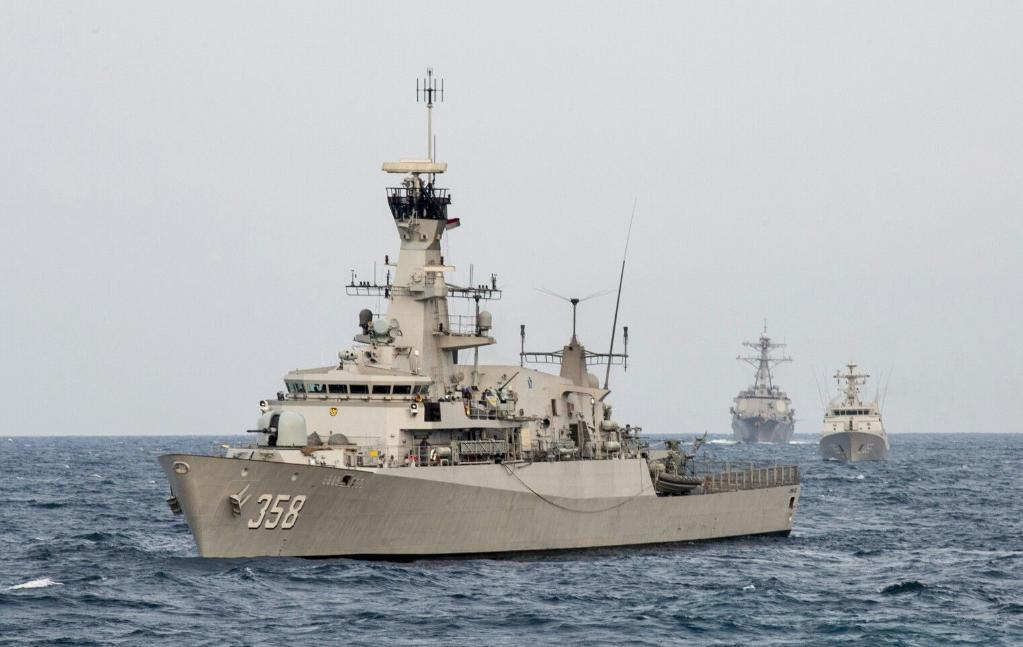Warship: (158, 65, 804, 561), (730, 317, 798, 443), (817, 361, 893, 463)
